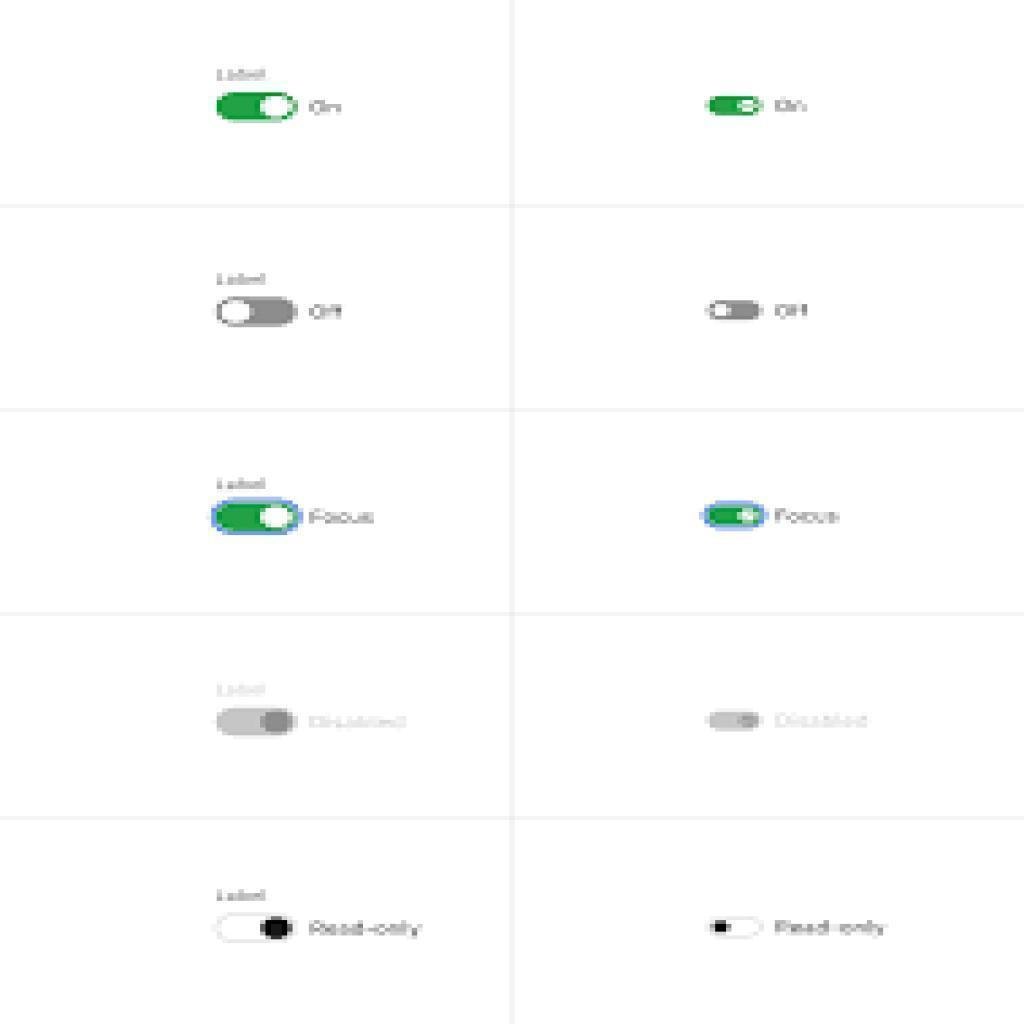switch: (213, 499, 303, 537), (217, 295, 300, 329), (211, 913, 294, 947), (218, 91, 300, 125), (216, 707, 298, 737), (701, 499, 770, 531), (708, 917, 768, 942), (706, 95, 766, 118), (704, 710, 764, 732), (705, 299, 764, 321)
